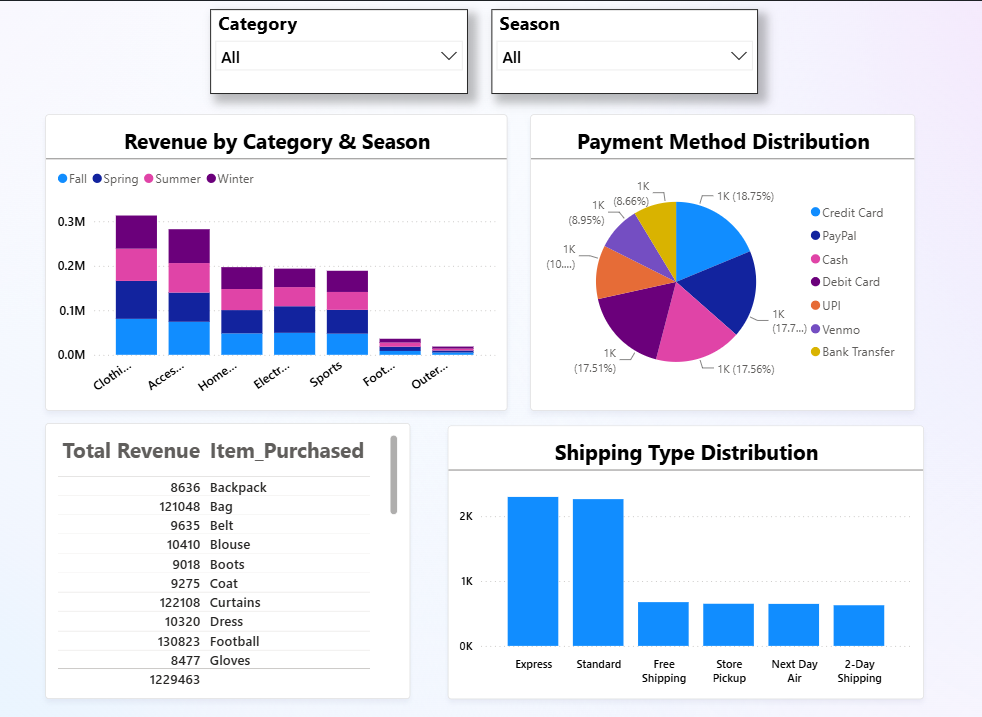

The dashboard page shown, as its layout file describes it:
{"tool":"powerbi","page":{"name":" Category & Season","canvas":[1150,800],"ordinal":4},"visuals":[{"type":"tableEx","title":"Promo Used Vs Not Used","fields":{"Values":["Project_Shopping_Trends.Total Revenue","Project_Shopping_Trends.Item_Purchased"]},"box":[99.2,467.4,396.7,300.3],"z":0},{"type":"columnChart","title":"Revenue by Category & Season","fields":{"Category":["Project_Shopping_Trends.Category"],"Y":["Project_Shopping_Trends.Total Revenue"],"Series":["Project_Shopping_Trends.Season"]},"box":[99.2,131.8,502.7,322],"z":1000},{"type":"pieChart","title":"Payment Method Distribution","fields":{"Category":["Project_Shopping_Trends.Payment_Method"],"Y":["Project_Shopping_Trends.Total Customers"]},"box":[626.4,131.8,418.5,322],"z":2000},{"type":"clusteredColumnChart","title":"Shipping Type Distribution","fields":{"Category":["Project_Shopping_Trends.Shipping_Type"],"Y":["Project_Shopping_Trends.Total Customers"]},"box":[536.7,470.1,517.7,297.6],"z":3000},{"type":"slicer","fields":{"Values":["Project_Shopping_Trends.Category"]},"box":[278.5,17.7,279.9,92.4],"z":4000},{"type":"slicer","fields":{"Values":["Project_Shopping_Trends.Season"]},"box":[584.2,17.7,289.4,92.4],"z":5000}]}

Visuals, with their boxes on the page's 1150x800 design canvas (x1, y1, x2, y2). These are canvas units, not pixel positions in the 982x717 screenshot, which may show the page scaled, cropped or inside an application window:
"Promo Used Vs Not Used" tableEx: (99,467,496,768)
"Revenue by Category & Season" columnChart: (99,132,602,454)
"Payment Method Distribution" pieChart: (626,132,1045,454)
"Shipping Type Distribution" clusteredColumnChart: (537,470,1054,768)
slicer - Project_Shopping_Trends.Category: (278,18,558,110)
slicer - Project_Shopping_Trends.Season: (584,18,874,110)
